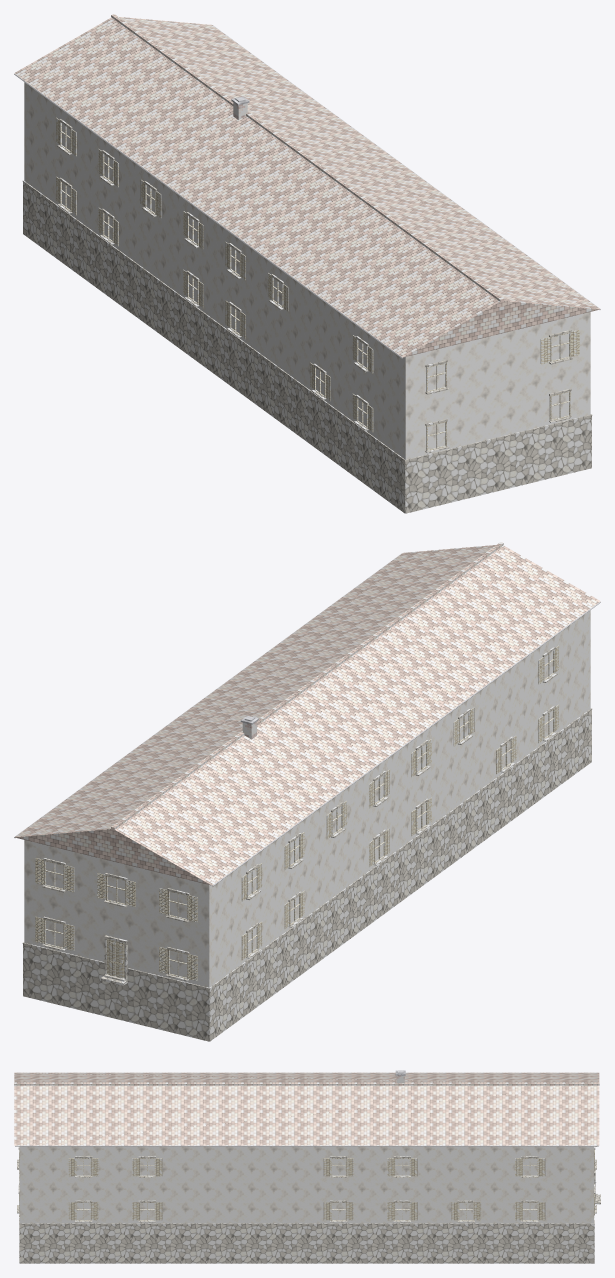
3 renders of one model, top to bottom at view 1: azimuth 30°, elevation 25°; view 2: azimuth 150°, elevation 25°; view 3: azimuth 270°, elevation 25°, orthographic. The views are drawn at different scales.
Visible parts, largest first — view 1: b947602175; view 2: b947602175; view 3: b947602175.
Boxes of the visible parts, x1,y1,x2,y2 form: b947602175: (14, 14, 600, 513); b947602175: (14, 542, 600, 1041); b947602175: (14, 1070, 600, 1263).
Size of the model in its own units: 11 by 10.95 by 37.26.
19 materials, 19 textured.
